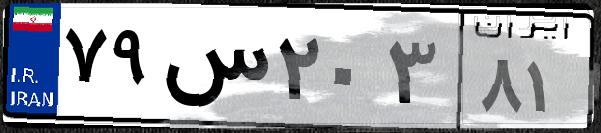0: (330, 28, 385, 110)
1: (525, 38, 570, 115)
2: (270, 28, 330, 110)
3: (385, 28, 445, 110)
7: (57, 26, 110, 100)
8: (475, 38, 525, 113)
9: (110, 28, 158, 98)
س: (158, 20, 270, 120)
